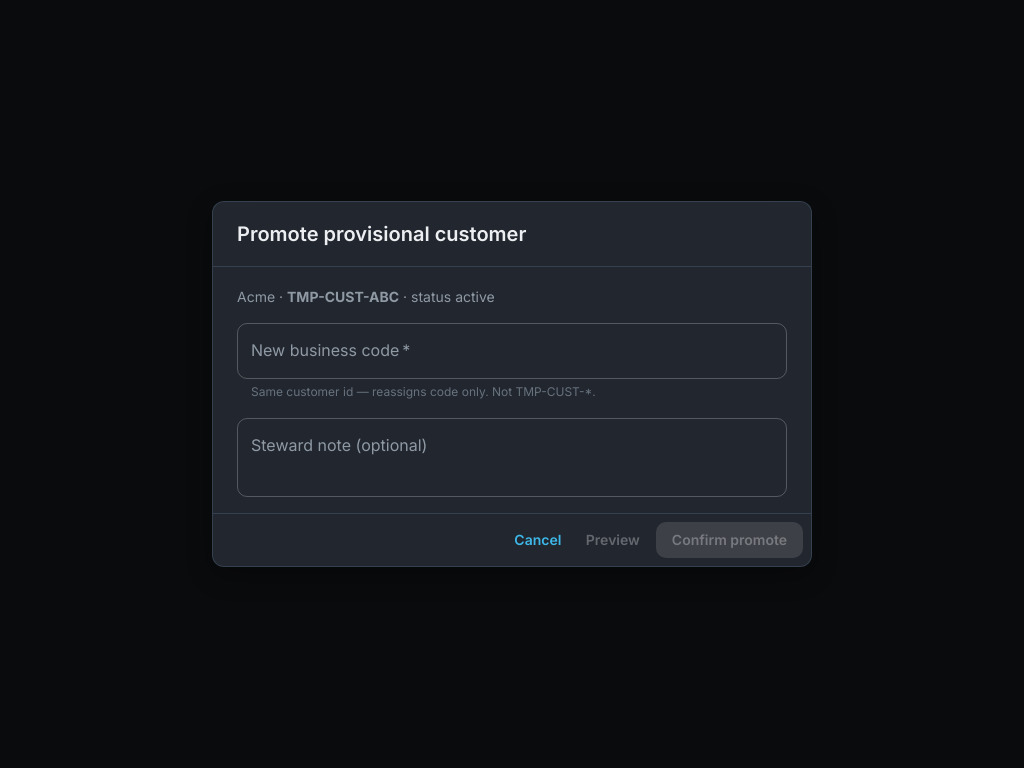
Test case: CustomerPromoteDialog › admin_mint_edge shows caution
This screenshot has width=1024, height=768.
Type "ACME-001" into the field with test id "promote-new-code" at (512, 351), box [237,323,787,379]
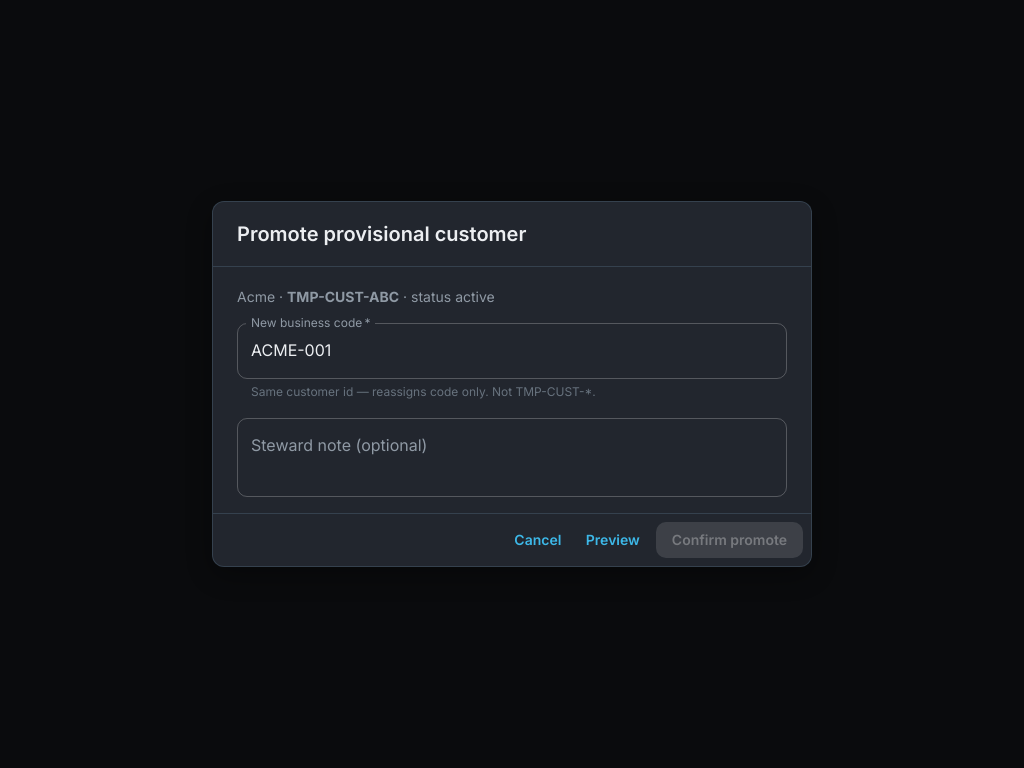
Click the button with test id "promote-preview-btn" at (613, 540), box [578,522,648,558]
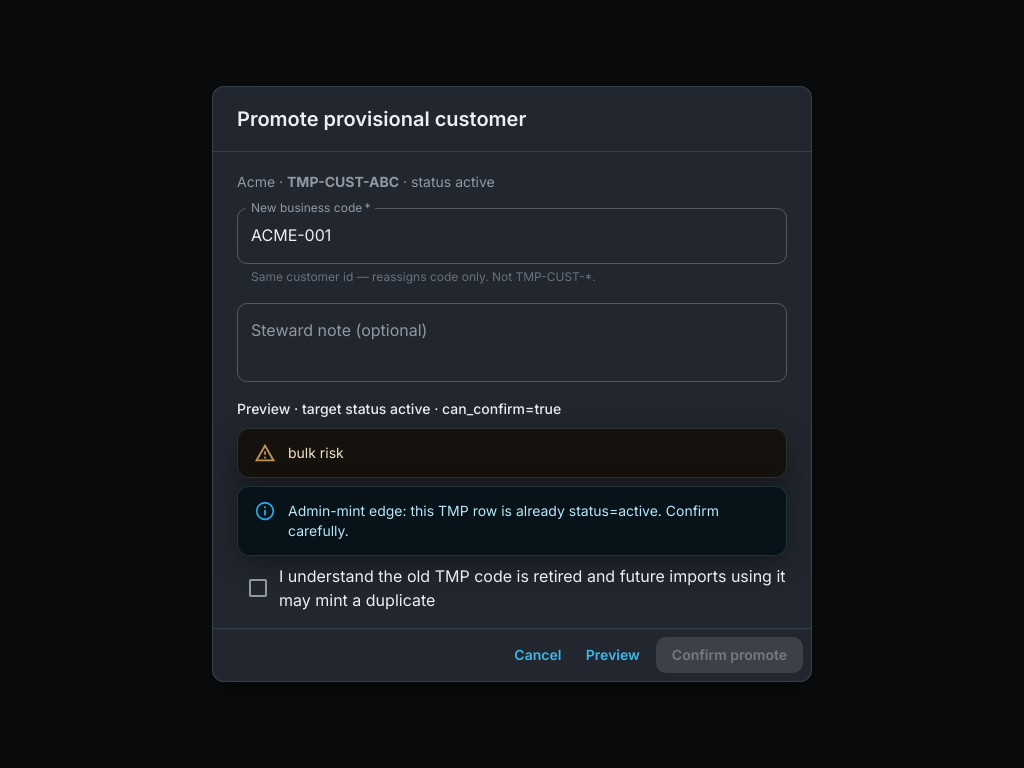
Check: the message "Admin-mint edge: this TMP row is already status=active. Confirm carefully." is shown, box [237,486,787,556]
